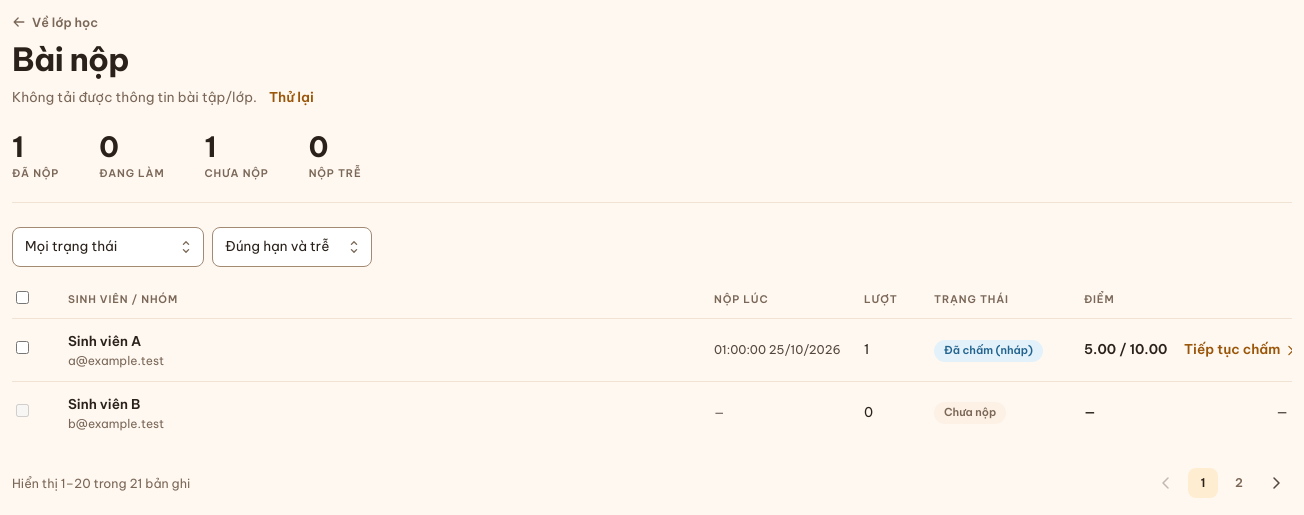
submission assignment context › isolates metadata HTTP 403 and retries it without reloading submissions
expect the checkbox named "Chọn Sinh viên A" is shown: met, box [16,341,29,354]
expect the text "Không tải được thông tin bài tập/lớp." is shown: met, box [12,87,257,109]
Click the button with aria-label "Thử tải lại thông tin bài tập/lớp": (291, 98) [269,87,314,109]
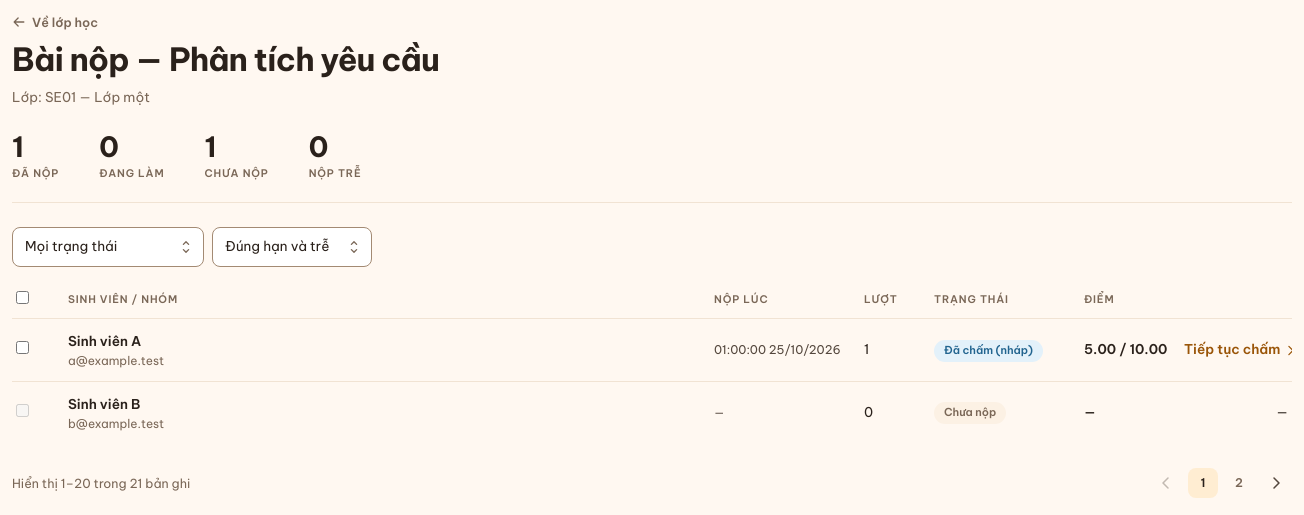
expect the text "Lớp: SE01 — Lớp một" is shown: met, box [12,88,150,106]
